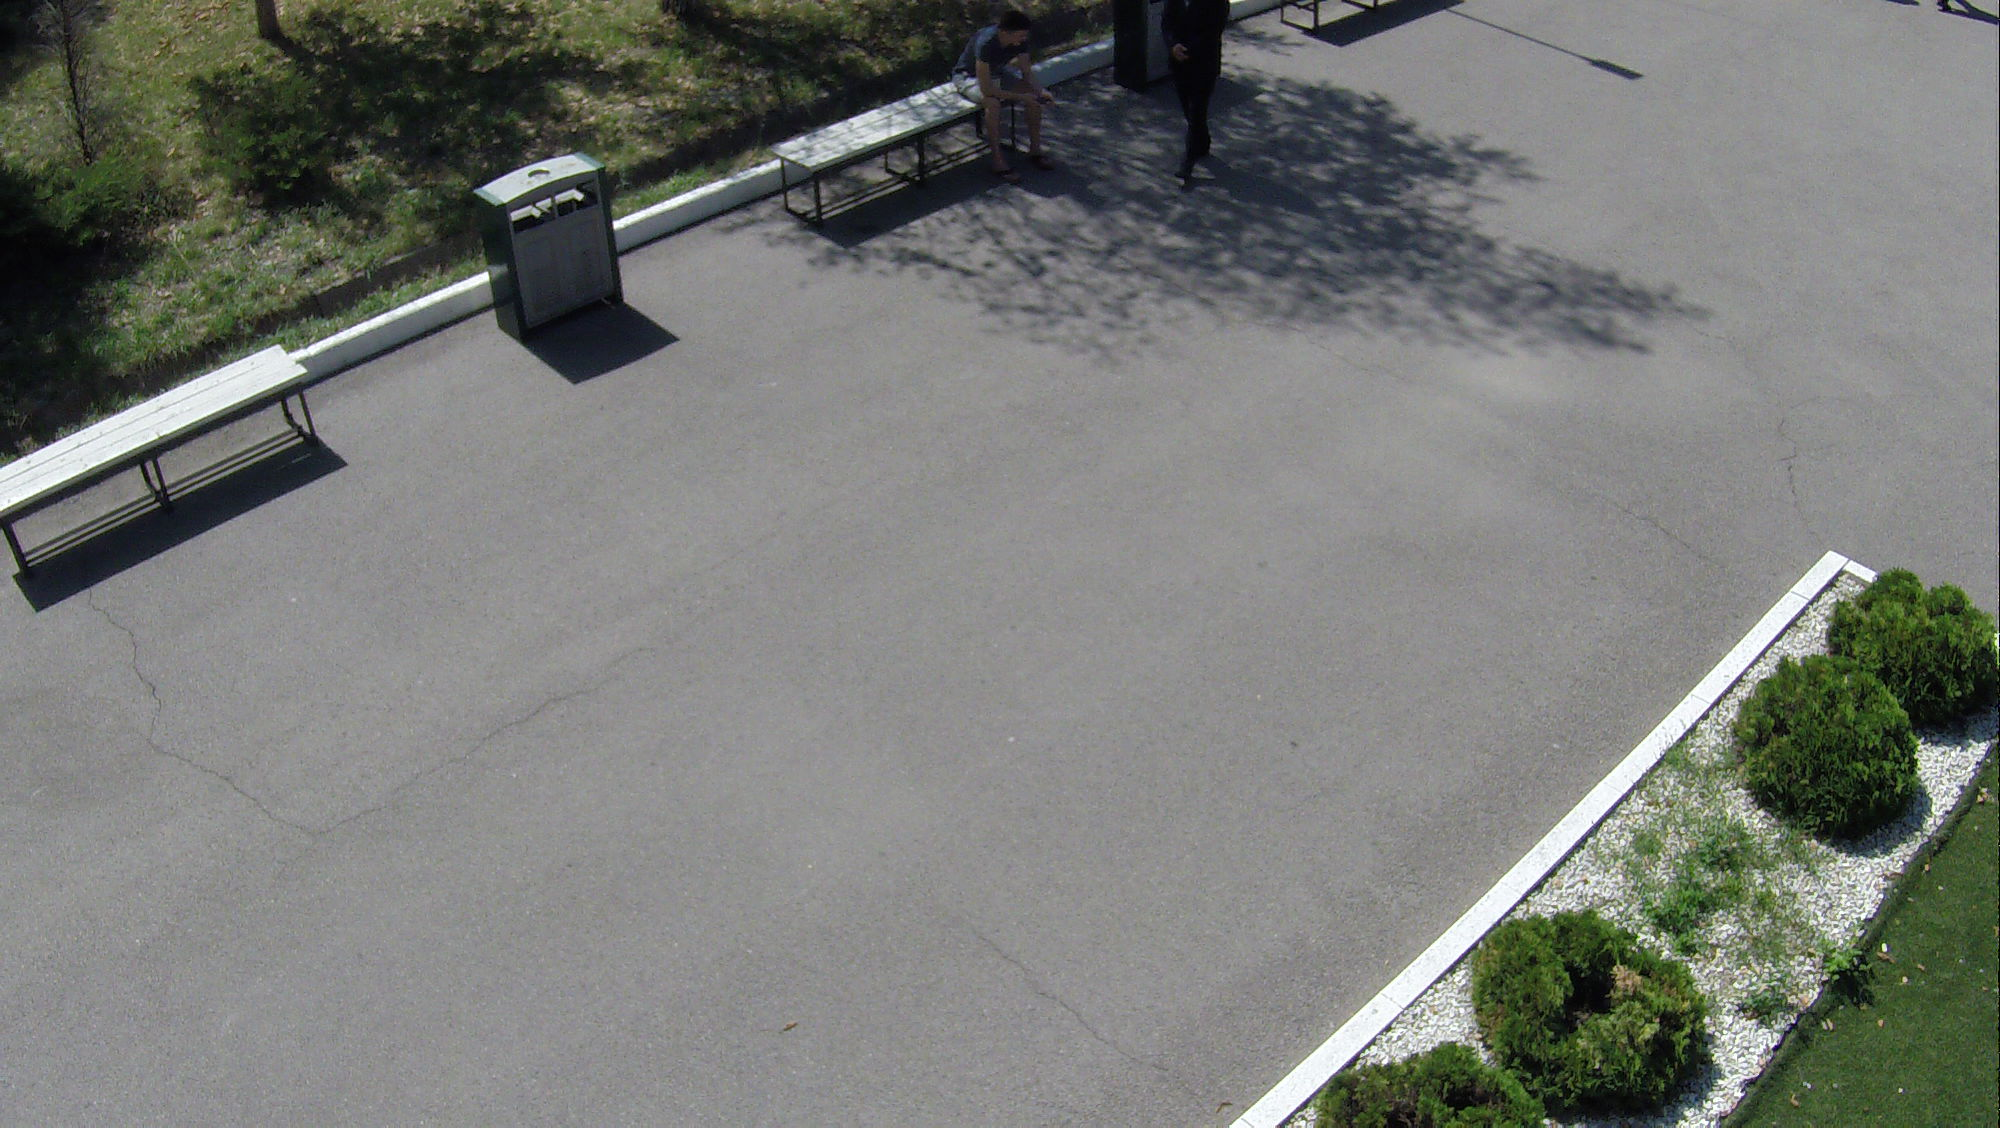person: (945, 16, 1072, 185)
